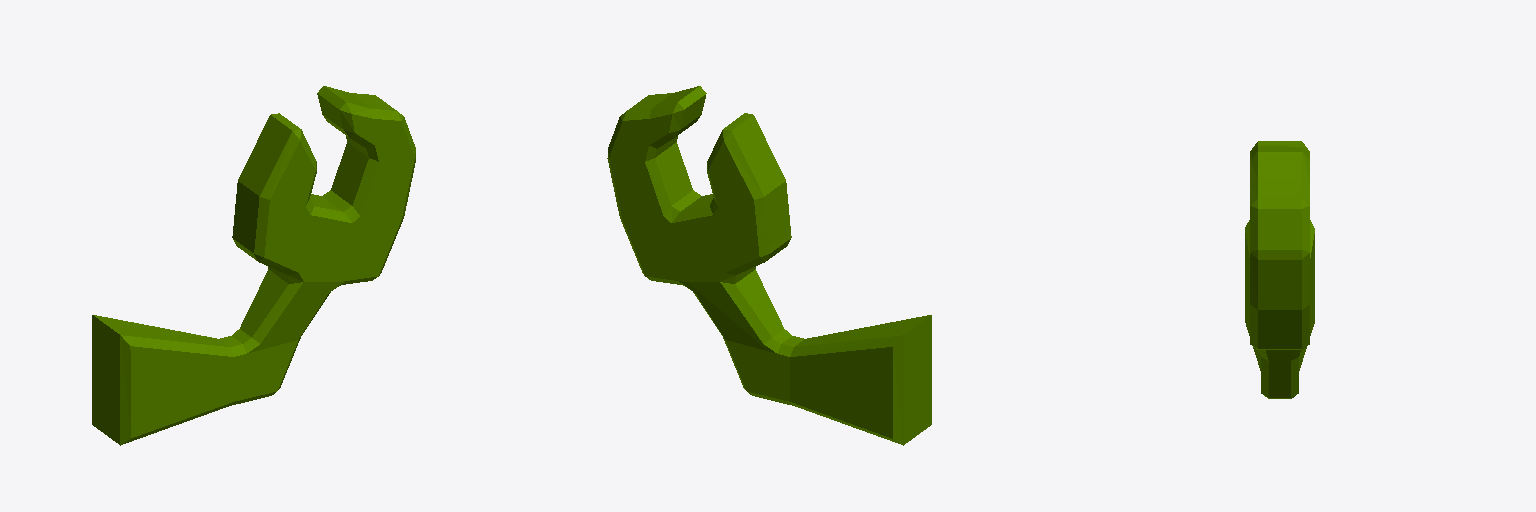
3 views of the same model, side by side, from view 1: azimuth 30°, elevation 25°; view 2: azimuth 150°, elevation 25°; view 3: azimuth 270°, elevation 25° (orthographic).
Visible parts, largest first — view 1: MonsterARMrIGTH; view 2: MonsterARMrIGTH; view 3: MonsterARMrIGTH.
Part boxes in pixels (x1,y1,x2,y2): MonsterARMrIGTH: (92, 86, 415, 445); MonsterARMrIGTH: (607, 86, 931, 445); MonsterARMrIGTH: (1245, 141, 1314, 398).
Bounding box in the file's own units: 2.87 × 2.62 × 0.5854.
Materials: 1 (1 with a texture image).